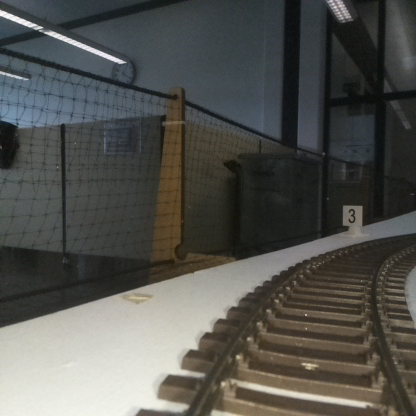white-stop-3: (343, 205, 362, 237)
